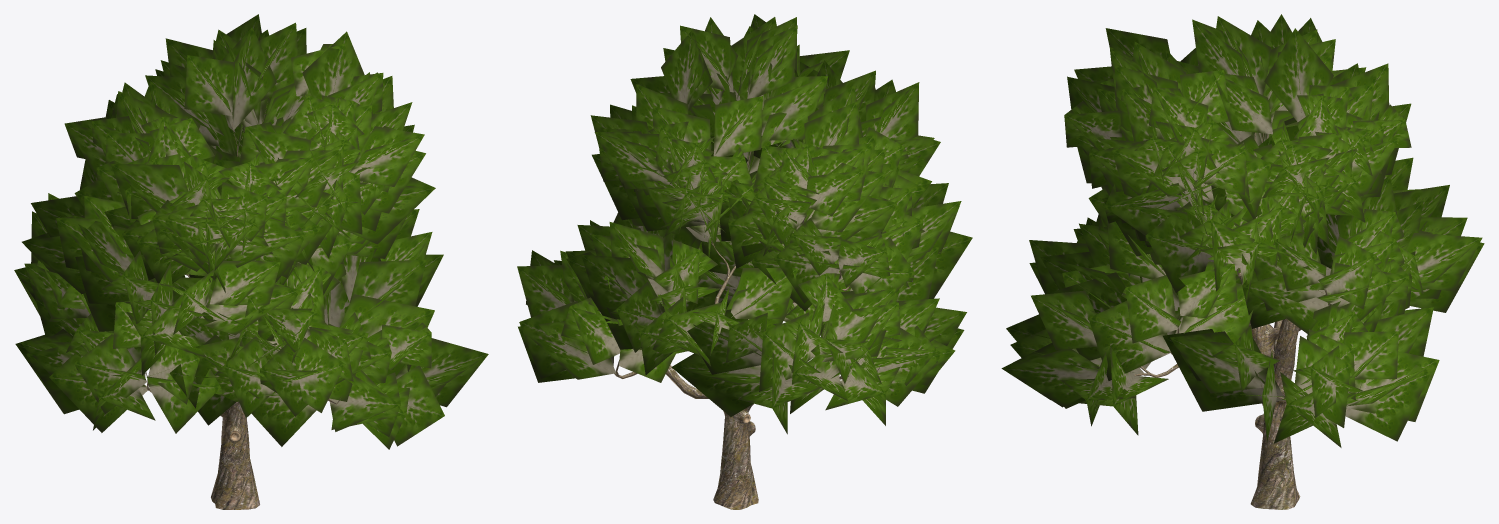
Rendered from Tree4.fbx.
3 views of the same model, side by side, from view 1: azimuth 30°, elevation 25°; view 2: azimuth 150°, elevation 25°; view 3: azimuth 270°, elevation 25° (orthographic). The views are drawn at different scales.
Visible parts, largest first — view 1: oak leaf_2, mossybark02_0; view 2: oak leaf_2, mossybark02_0; view 3: oak leaf_2, mossybark02_0.
Part boxes in pixels (bbox=[...]): oak leaf_2: bbox=[14, 14, 488, 449]; mossybark02_0: bbox=[144, 101, 399, 509]; oak leaf_2: bbox=[517, 14, 972, 434]; mossybark02_0: bbox=[614, 90, 880, 509]; oak leaf_2: bbox=[1001, 14, 1484, 447]; mossybark02_0: bbox=[1097, 132, 1361, 509].
Bounding box in the file's own units: 1385 × 1483 × 1374.
Materials: 3 (3 with a texture image).
